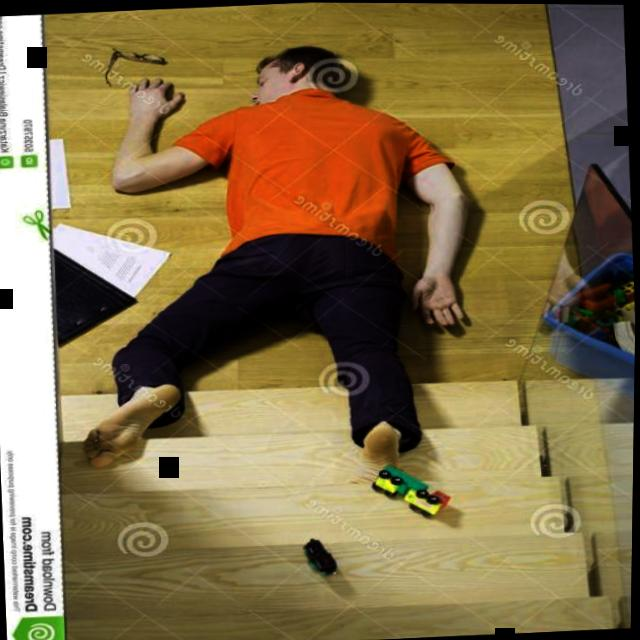Fall-Detected: (59, 1, 507, 545)
